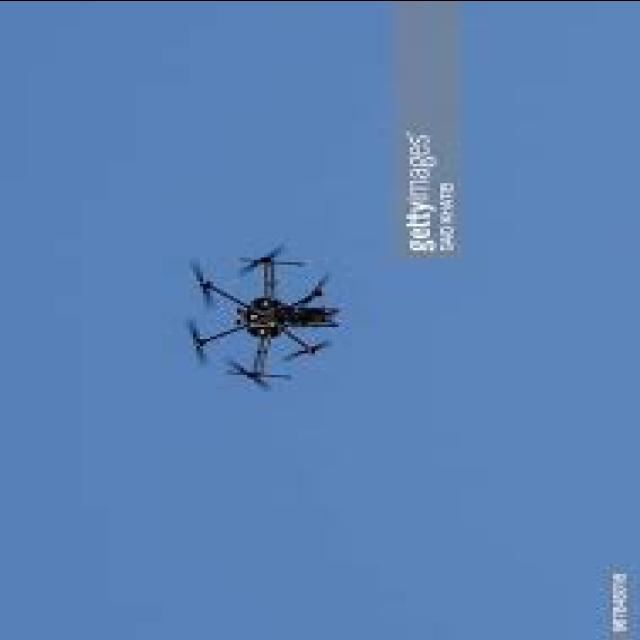drone: (166, 220, 364, 406)
